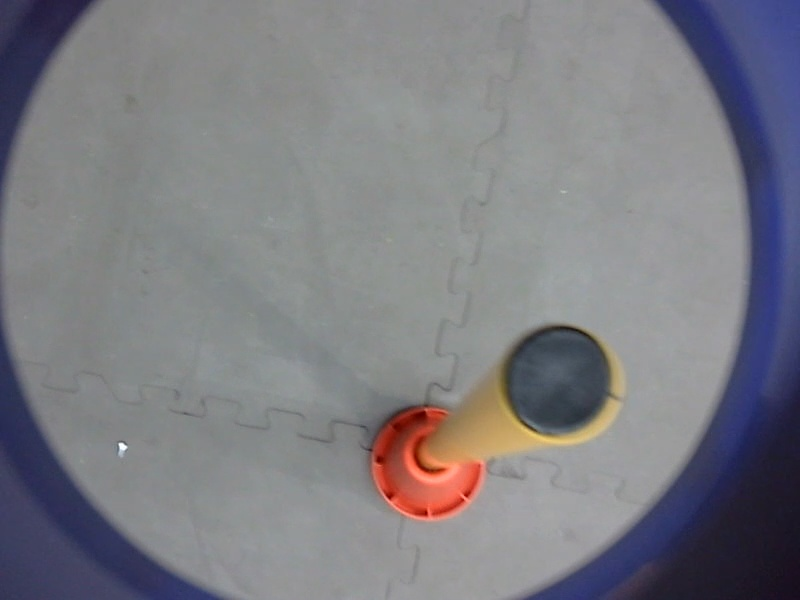tip: (492, 318, 629, 448)
